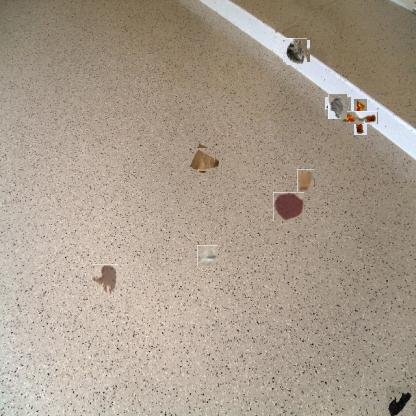dirty: (386, 387, 415, 415), (192, 146, 220, 174), (284, 39, 309, 64), (348, 105, 373, 130), (327, 95, 349, 118), (197, 245, 218, 266), (295, 170, 316, 191)
liquid: (273, 192, 304, 221), (92, 264, 118, 295)
